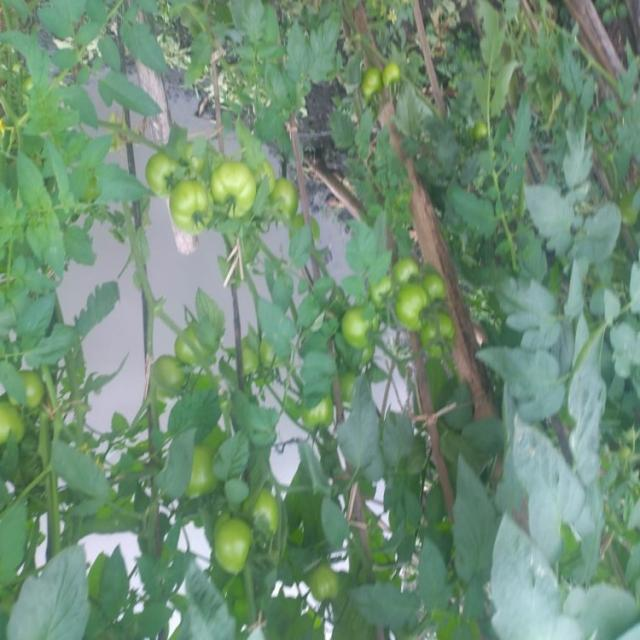tomato: (208, 156, 274, 226), (195, 519, 255, 585), (184, 437, 219, 517), (141, 350, 188, 406), (387, 290, 432, 342), (172, 186, 219, 233), (244, 485, 283, 540), (341, 304, 385, 352), (170, 326, 217, 368), (306, 572, 338, 620), (414, 263, 444, 311), (302, 401, 342, 437), (1, 401, 31, 448), (143, 156, 182, 190), (22, 370, 51, 412), (424, 310, 453, 350), (368, 282, 402, 313), (378, 62, 410, 94), (395, 258, 421, 292), (359, 72, 386, 97)
